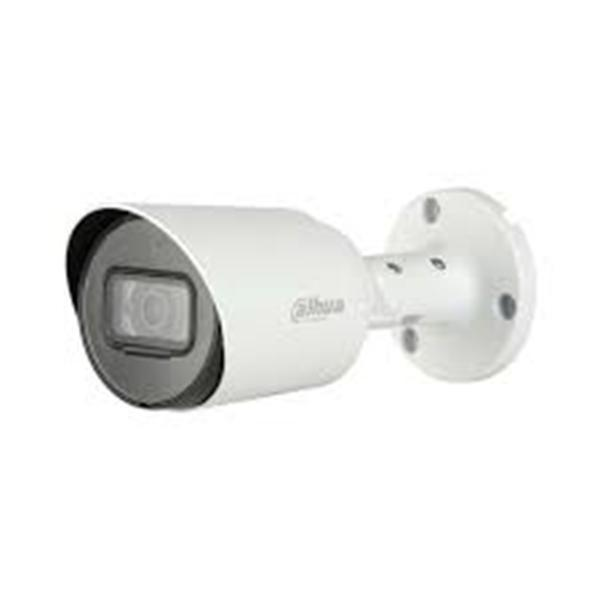CCTV: (64, 189, 541, 413)
